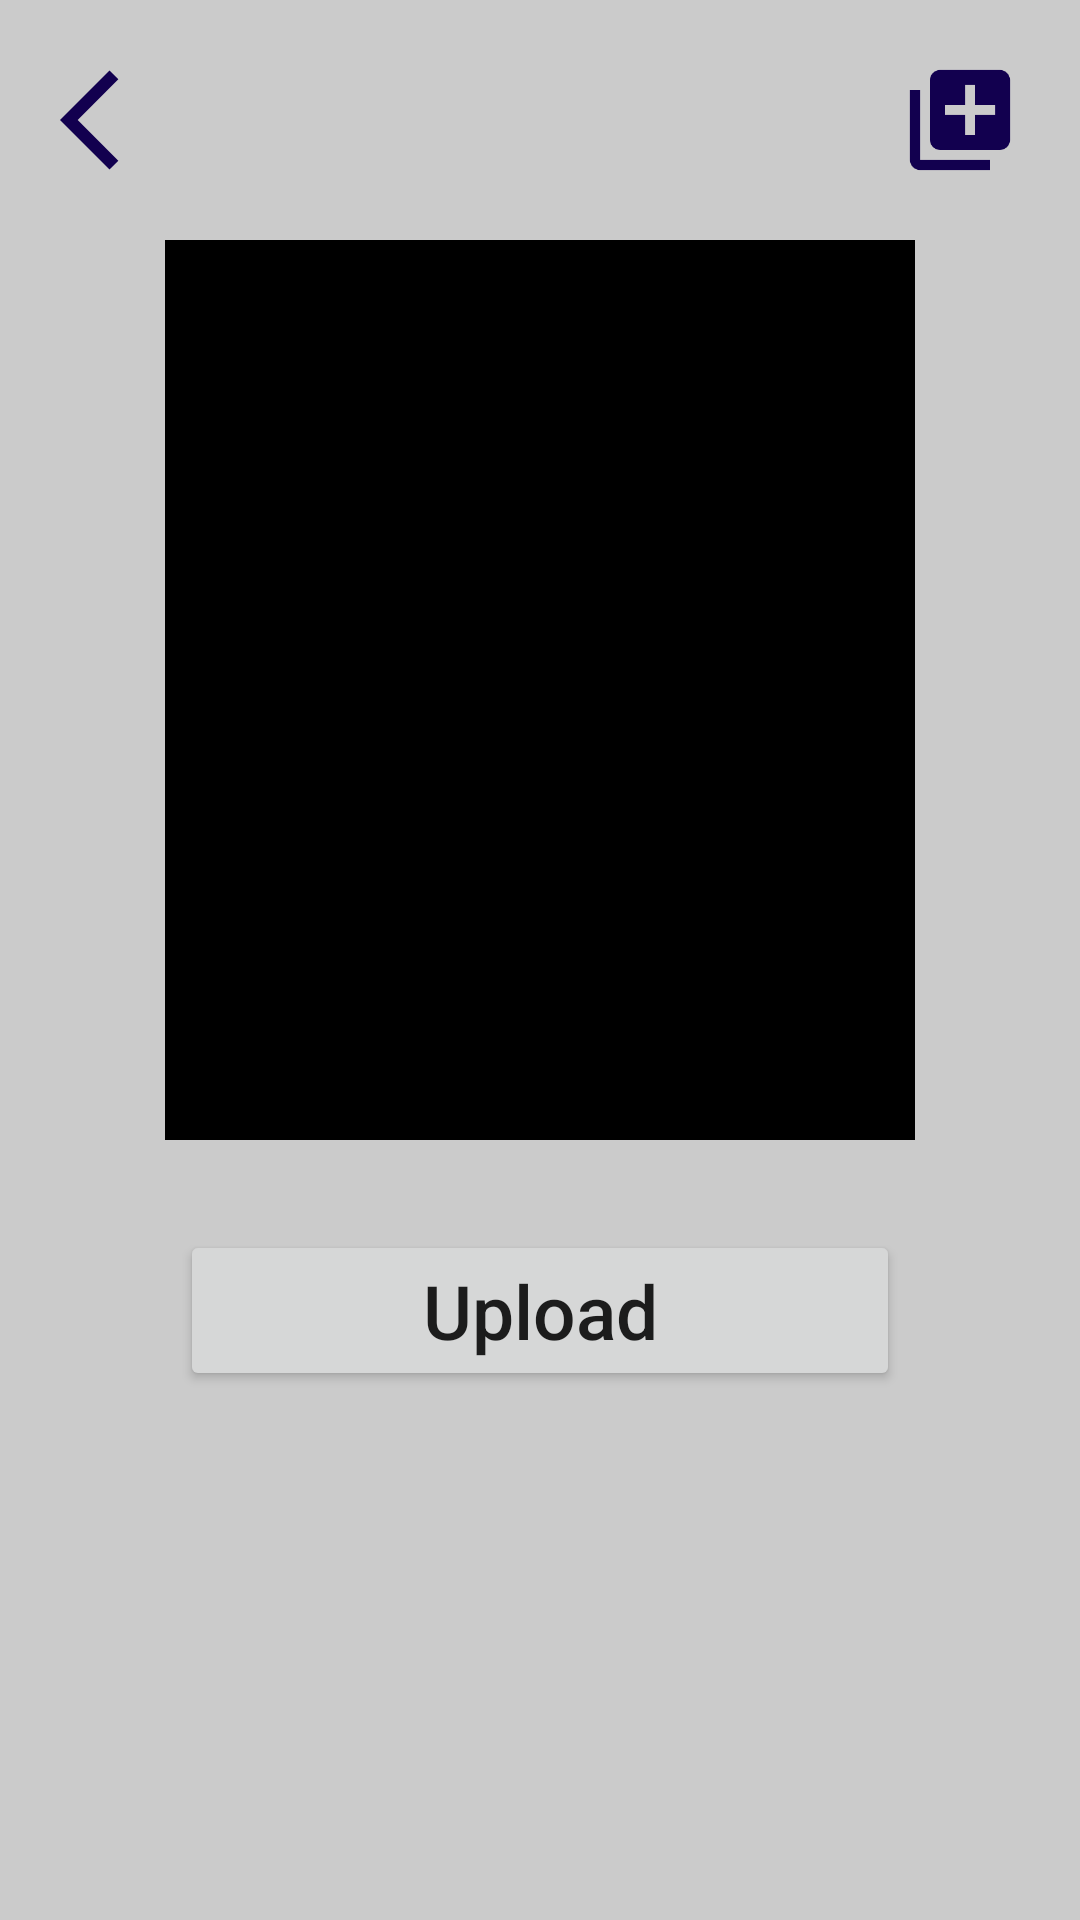

Icon bounding boxes for this 1080px x 1920px phone screenshot, format [x1, y1, x2, y2]:
add to photos: [910, 70, 1010, 170]
arrow back: [60, 70, 118, 170]
